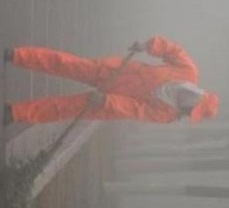person: (3, 36, 218, 128)
